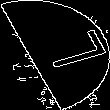L_W: (14, 31, 96, 79)
